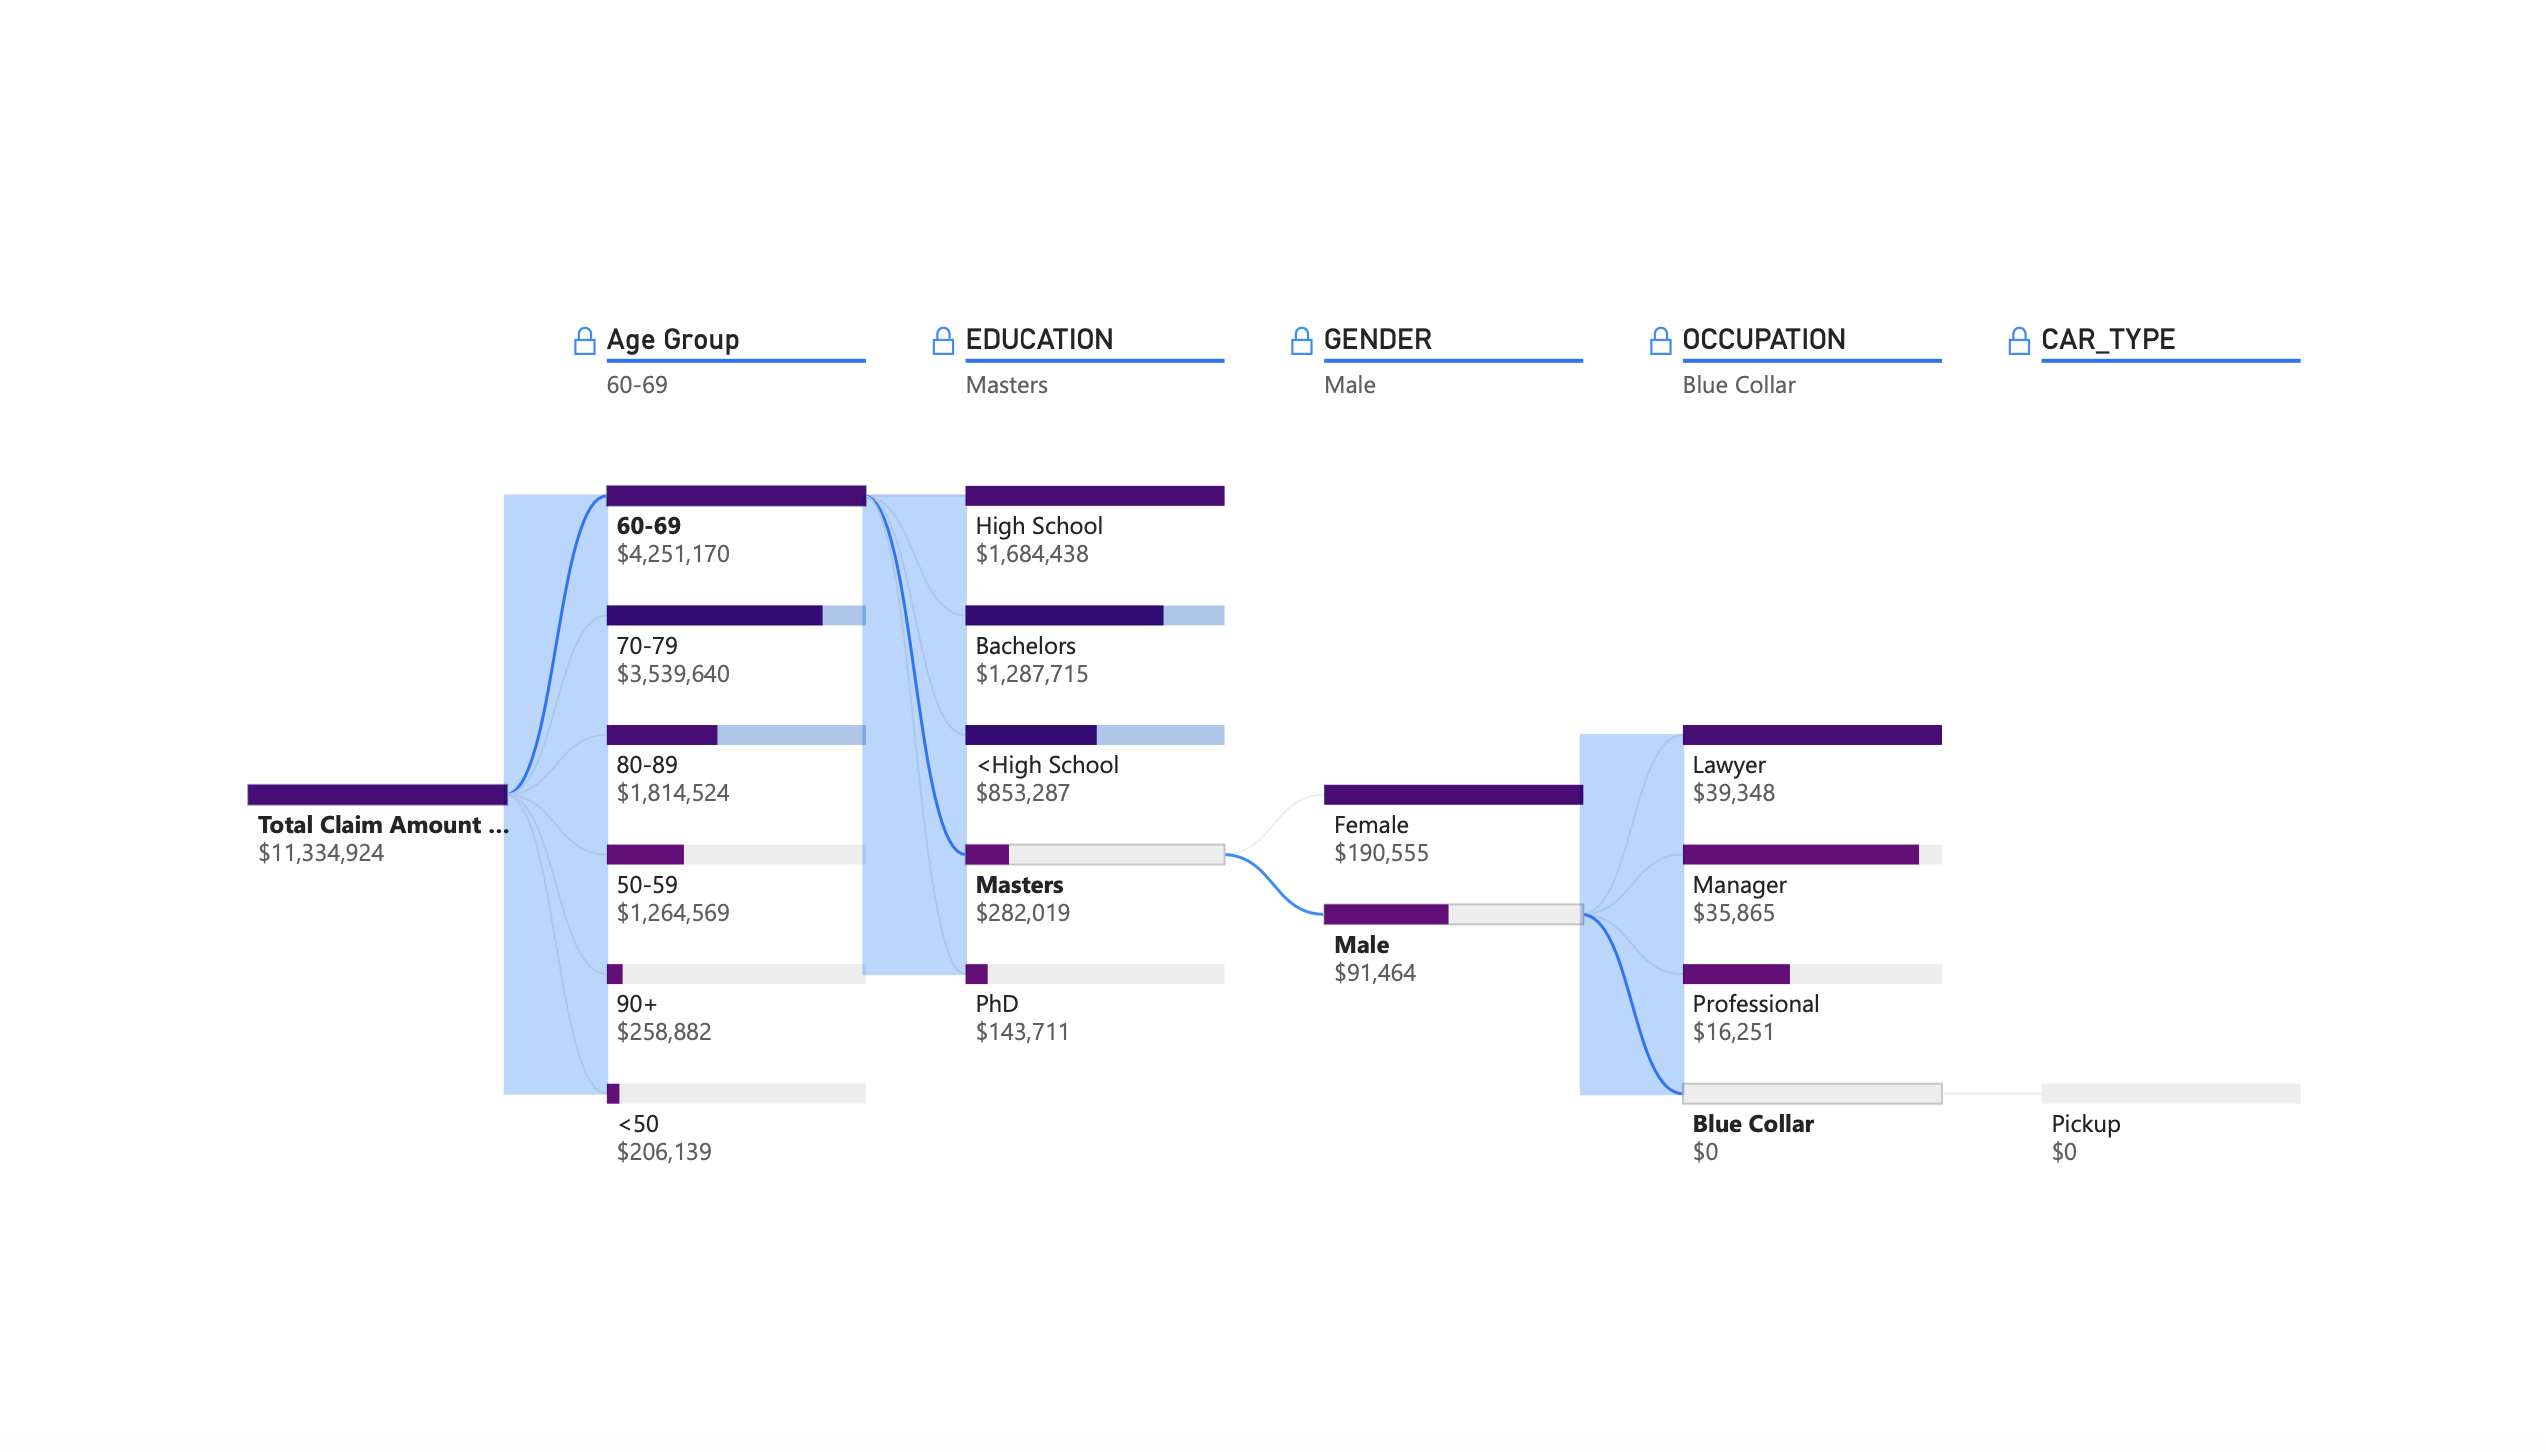

The dashboard page shown, as its layout file describes it:
{"tool":"powerbi","page":{"name":"Decomposition Tree","canvas":[1280,720],"ordinal":1},"visuals":[{"type":"decompositionTreeVisual","fields":{"Analyze":["Claim Insurance Dataset.Total Claim Amount ($)"],"ExplainBy":["Claim Insurance Dataset.Age Group","Claim Insurance Dataset.EDUCATION","Claim Insurance Dataset.GENDER","Claim Insurance Dataset.OCCUPATION","Claim Insurance Dataset.CAR_TYPE"]},"box":[94.8,140.9,1160.8,485.6],"z":0}]}

Visuals, with their boxes in screenshot pixels (x1, y1, x2, y2), scaled from the page's 1280x720 canvas onto the 2546x1452 screenshot:
decompositionTreeVisual - Claim Insurance Dataset.Total Claim Amount ($) x Claim Insurance Dataset.Age Group: l=189, t=284, r=2497, b=1263
